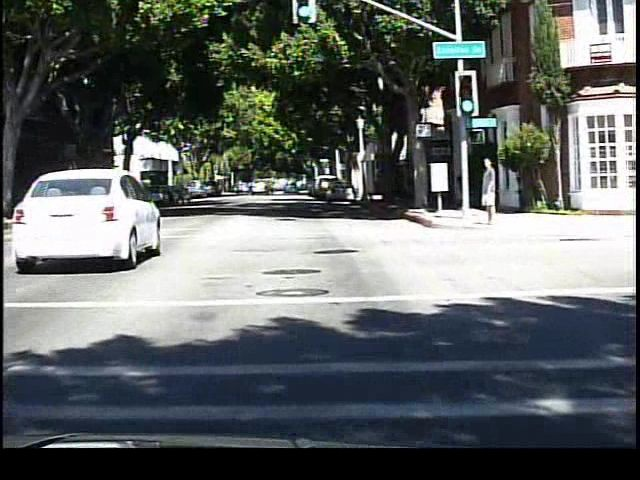person: (476, 155, 501, 226)
